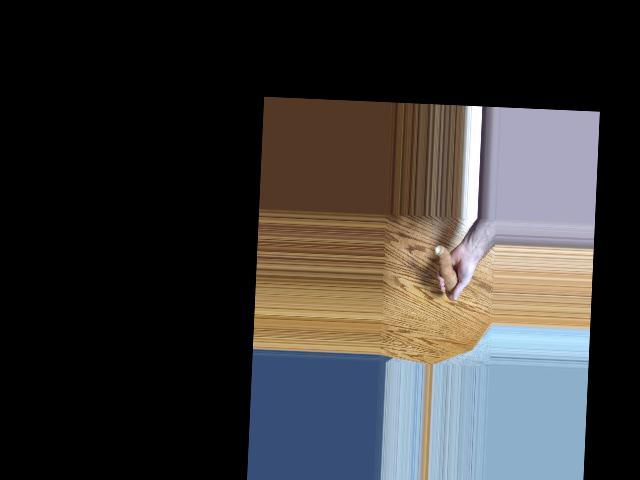sweet_potato: (433, 241, 459, 303)
